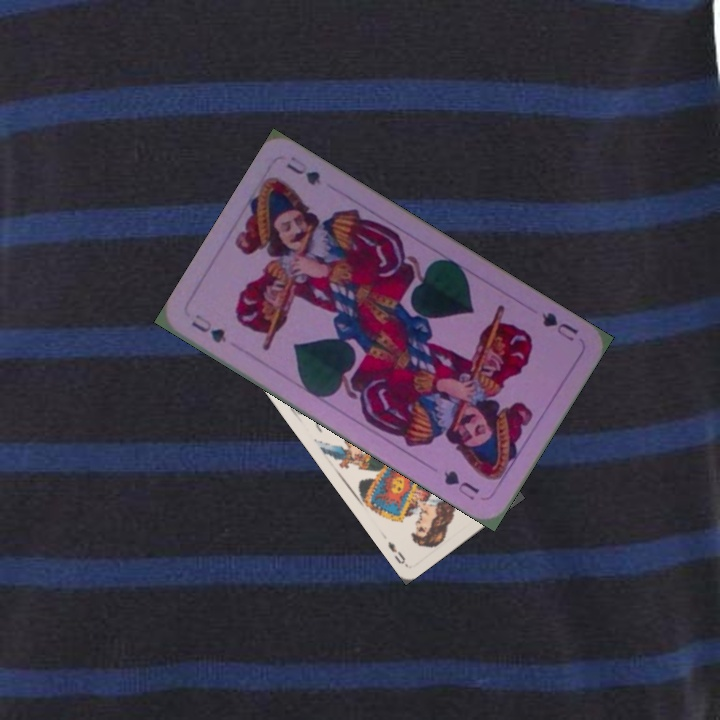GU: (187, 309, 230, 346), (537, 308, 581, 344)
